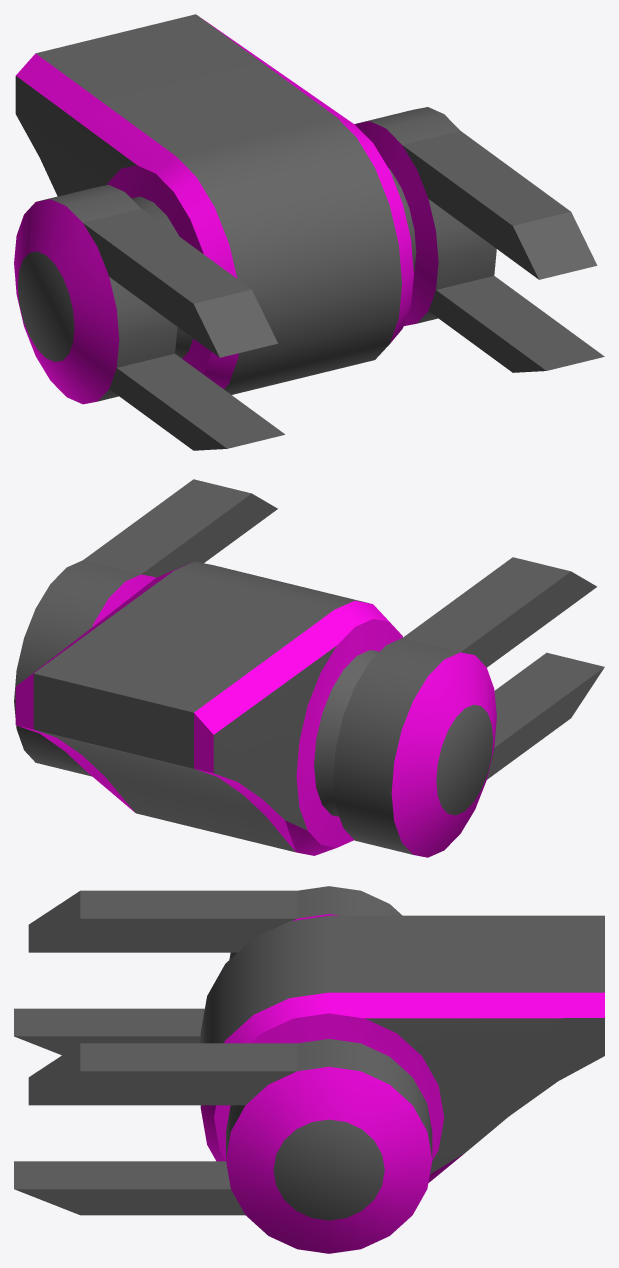
Rendered from PinkDrone.fbx.
3 renders of one model, top to bottom at view 1: azimuth 30°, elevation 25°; view 2: azimuth 150°, elevation 25°; view 3: azimuth 270°, elevation 25°, orthographic. The views are drawn at different scales.
Visible parts, largest first — view 1: pCylinder6; view 2: pCylinder6; view 3: pCylinder6.
Part boxes in pixels (left/top/right/bottom): pCylinder6: left=14, top=14, right=604, bottom=450; pCylinder6: left=14, top=479, right=604, bottom=857; pCylinder6: left=14, top=886, right=604, bottom=1253.
Bounding box in the file's own units: 1.38 × 0.7476 × 1.72.
